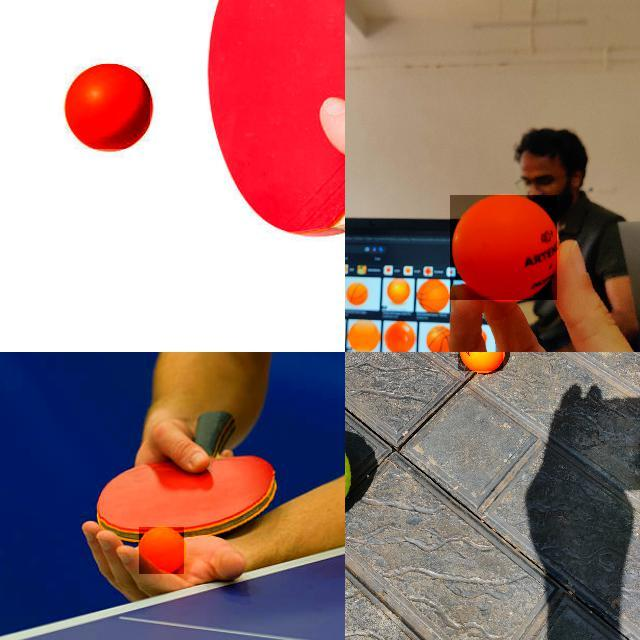ping-pong-ball: (450, 195, 558, 301), (63, 64, 151, 150), (138, 527, 186, 575), (458, 352, 505, 373)
